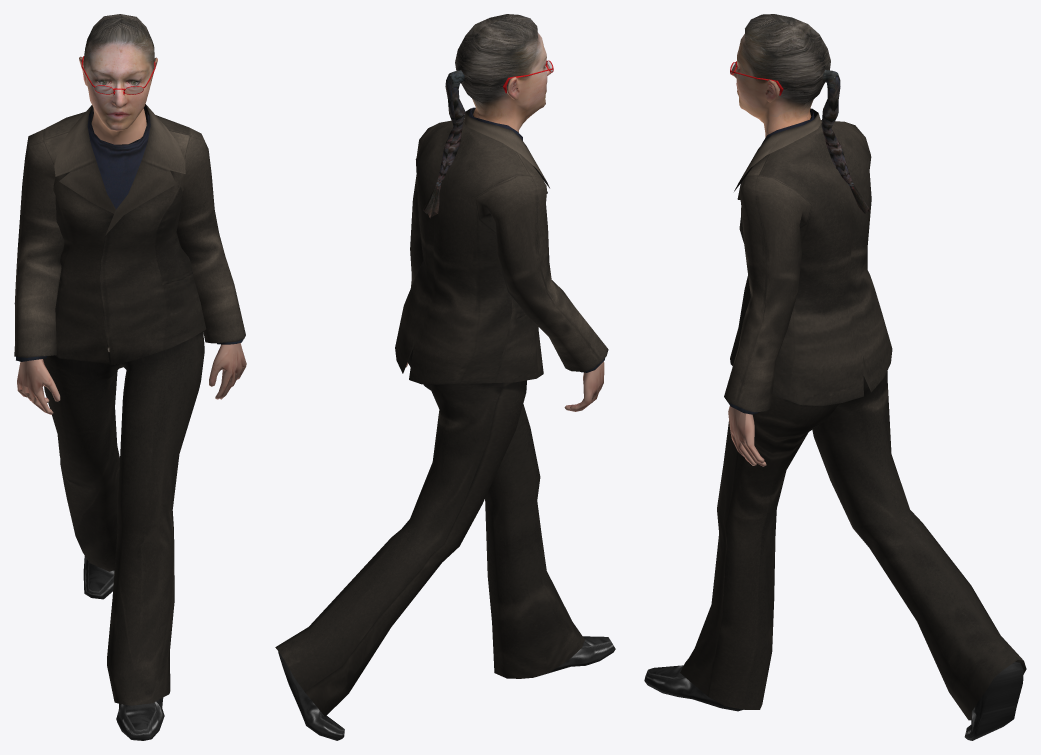
Rendered from FemaleFigure.fbx.
The picture shows the model from 3 angles, left to right: view 1: azimuth 30°, elevation 25°; view 2: azimuth 150°, elevation 25°; view 3: azimuth 270°, elevation 25°; orthographic projection. The views are drawn at different scales.
Visible parts, largest first — view 1: Body, Head; view 2: Body, Head; view 3: Body, Head.
Boxes of the visible parts, x1,y1,x2,y2 form: Body: [14, 104, 246, 740]; Head: [79, 14, 157, 144]; Body: [275, 107, 615, 740]; Head: [423, 14, 552, 218]; Body: [644, 108, 1026, 740]; Head: [731, 14, 869, 213].
Bounding box in the file's own units: 58.23 × 167 × 84.69.
